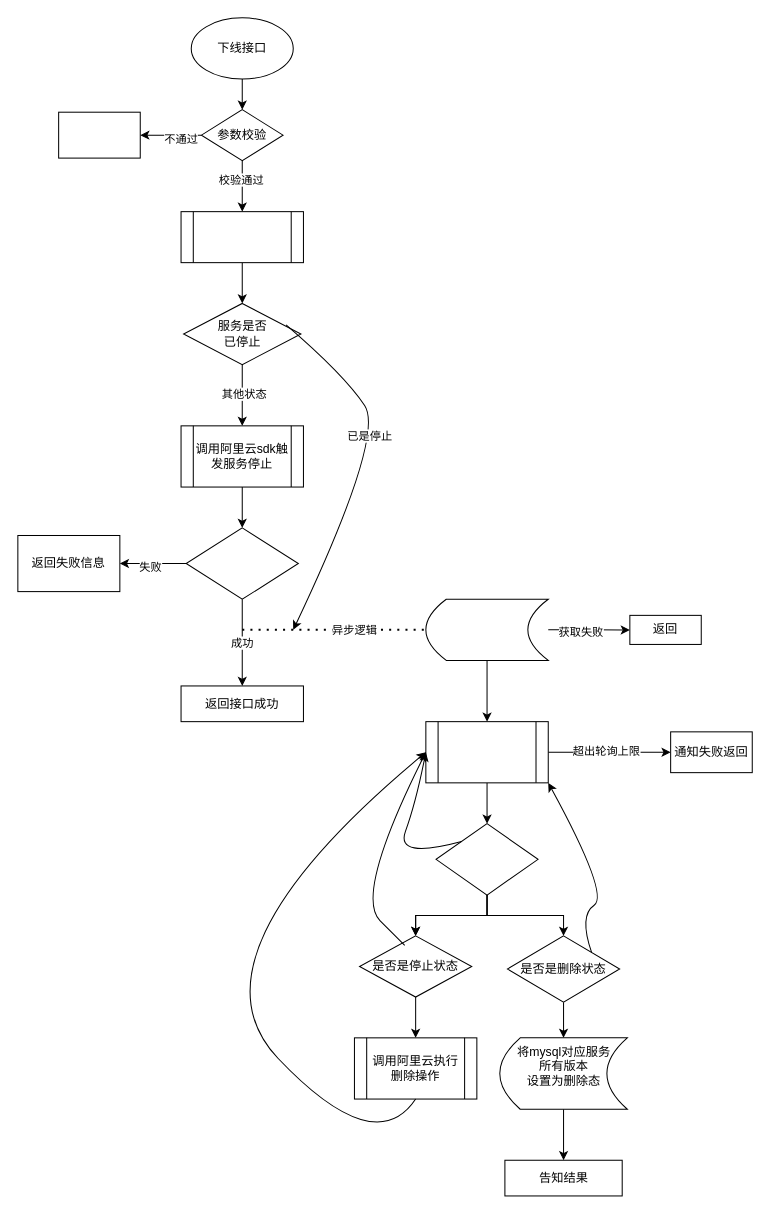
Image size: 770x1214. Some labels were removed from this diagram. The shapes that lost their labels are listed below. From the top down, each one's centre as x and y in pixels, then its label:
the point at 99,134: 返回失败
the point at 241,237: 阿里云sdk查询服务当前状态
the point at 241,563: 调用是否成功
the point at 486,629: 获取mysql当前 运行服务
the point at 486,752: 查询阿里云PAi服务状态
the point at 486,859: 是否终止态
